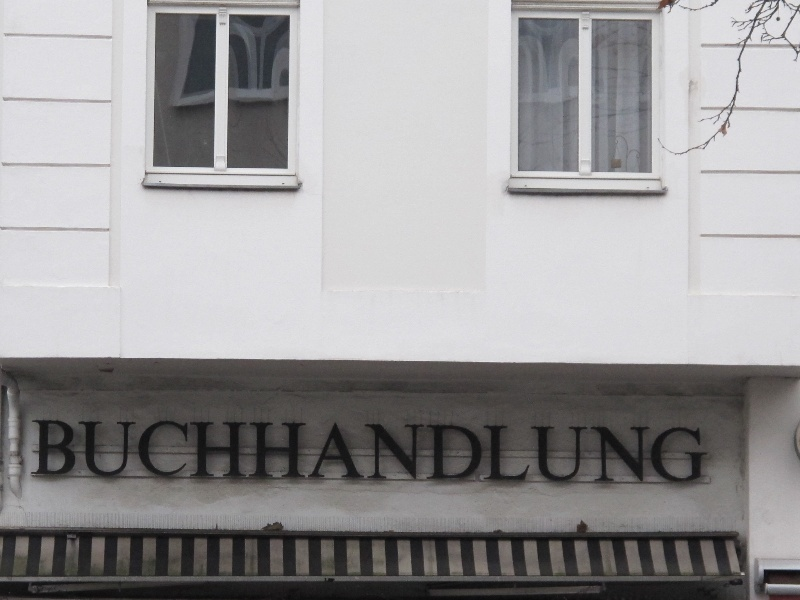text: (33, 417, 48, 488), (49, 417, 64, 488), (65, 417, 80, 488), (81, 417, 96, 488), (97, 417, 112, 488), (113, 417, 128, 488), (129, 417, 144, 488), (145, 417, 160, 488), (161, 417, 176, 488), (177, 417, 192, 488), (193, 417, 208, 488), (209, 417, 224, 488), (225, 417, 240, 488), (241, 417, 256, 488), (257, 417, 272, 488), (273, 417, 288, 488), (289, 417, 304, 488), (305, 417, 320, 488), (321, 417, 336, 488), (337, 417, 352, 488), (353, 417, 368, 488), (369, 417, 384, 488), (385, 417, 400, 488), (401, 417, 416, 488), (417, 417, 432, 488), (433, 417, 448, 488), (449, 417, 464, 488), (465, 417, 480, 488), (481, 417, 496, 488), (497, 417, 512, 488), (513, 417, 528, 488), (529, 417, 544, 488), (545, 417, 560, 488), (561, 417, 576, 488), (577, 417, 592, 488), (593, 417, 608, 488), (609, 417, 624, 488), (625, 417, 640, 488), (641, 417, 656, 488), (657, 417, 672, 488), (673, 417, 688, 488), (689, 417, 704, 488), (705, 417, 709, 488)
